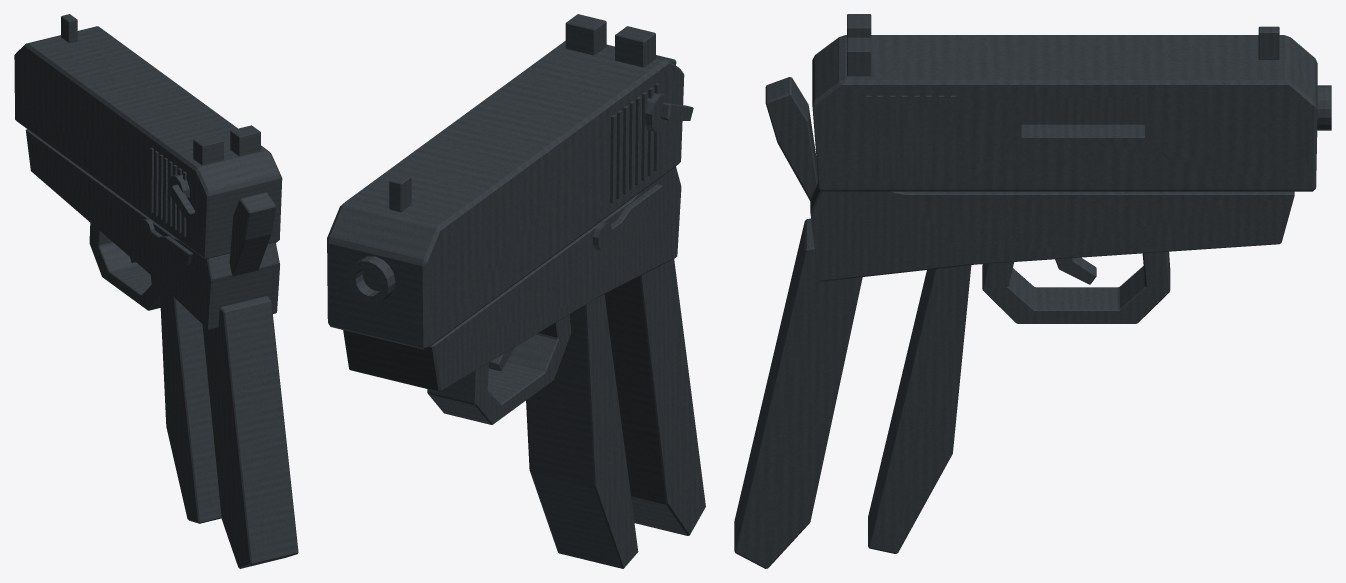
File: weapon_pm.glb
3 renders of one model, left to right at view 1: azimuth 30°, elevation 25°; view 2: azimuth 150°, elevation 25°; view 3: azimuth 270°, elevation 25°, orthographic. The views are drawn at different scales.
Parts seen in each view (by area): view 1: body_LOD0, action_LOD0; view 2: body_LOD0, action_LOD0; view 3: body_LOD0, action_LOD0.
Boxes of the visible parts, x1,y1,x2,y2 form: body_LOD0: (25, 129, 298, 568); action_LOD0: (14, 14, 282, 259); body_LOD0: (343, 55, 705, 568); action_LOD0: (327, 14, 693, 349); body_LOD0: (734, 77, 1331, 568); action_LOD0: (812, 14, 1317, 191).
Size of what is drawn, in the model's own units: 0.0777 by 0.3335 by 0.3438.
1 material, 1 textured.
